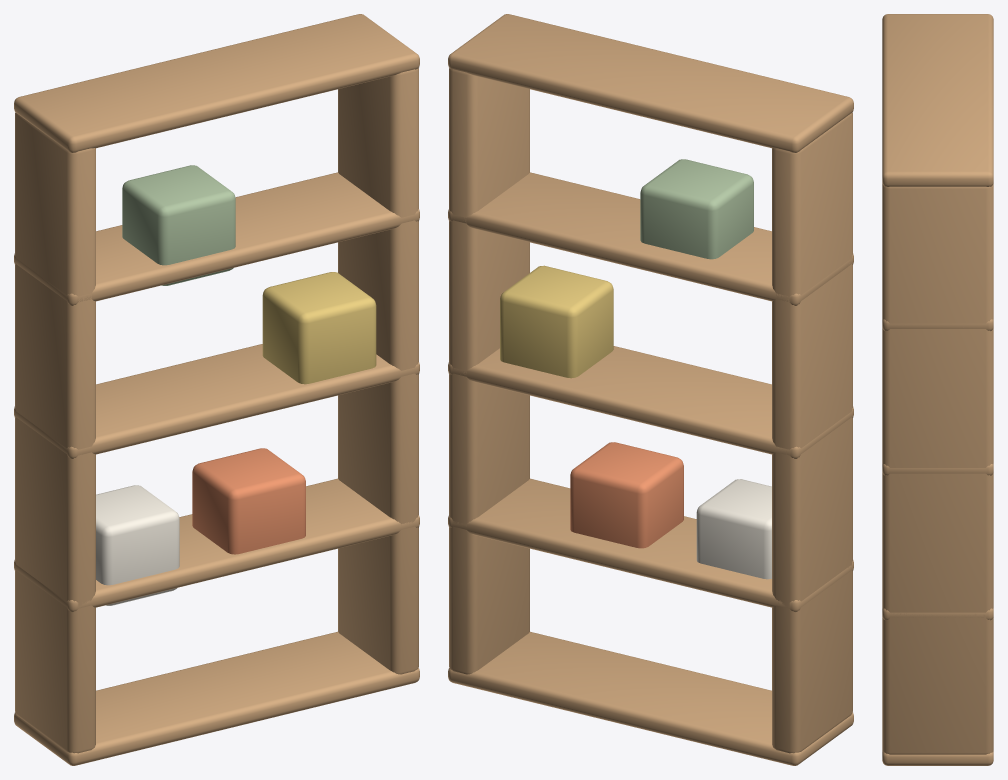
File: bookshelf.glb
3 views of the same model, side by side, from view 1: azimuth 30°, elevation 25°; view 2: azimuth 150°, elevation 25°; view 3: azimuth 270°, elevation 25° (orthographic). The views are drawn at different scales.
Visible parts, largest first — view 1: side, side.001, shelf.004, shelf, shelf.002, shelf.003, shelf.001, contents-2, contents-1, contents-3, contents-0; view 2: side, side.001, shelf.004, shelf, shelf.002, shelf.003, shelf.001, contents-2, contents-1, contents-3, contents-0; view 3: side.001, shelf.004, shelf, shelf.002, shelf.003, shelf.001.
Part boxes in pixels (<box>): side: <box>15,112,95,753</box>; side.001: <box>338,68,418,674</box>; shelf.004: <box>14,14,419,152</box>; shelf: <box>14,631,419,765</box>; shelf.002: <box>14,344,419,458</box>; shelf.003: <box>14,172,419,305</box>; shelf.001: <box>14,478,419,611</box>; contents-2: <box>262,272,376,384</box>; contents-1: <box>192,448,305,554</box>; contents-3: <box>122,165,235,285</box>; contents-0: <box>96,485,179,605</box>; side: <box>772,112,852,753</box>; side.001: <box>449,68,529,674</box>; shelf.004: <box>448,14,853,152</box>; shelf: <box>448,631,853,765</box>; shelf.002: <box>448,346,853,458</box>; shelf.003: <box>448,172,853,305</box>; shelf.001: <box>448,478,853,611</box>; contents-2: <box>500,265,613,378</box>; contents-1: <box>570,442,683,548</box>; contents-3: <box>640,159,753,259</box>; contents-0: <box>696,479,771,579</box>; side.001: <box>882,183,993,754</box>; shelf.004: <box>882,14,993,186</box>; shelf: <box>882,750,993,765</box>; shelf.002: <box>882,464,993,475</box>; shelf.003: <box>882,319,993,330</box>; shelf.001: <box>882,608,993,620</box>.
Bounding box in the file's own units: 1.2 × 2.05 × 0.35.
